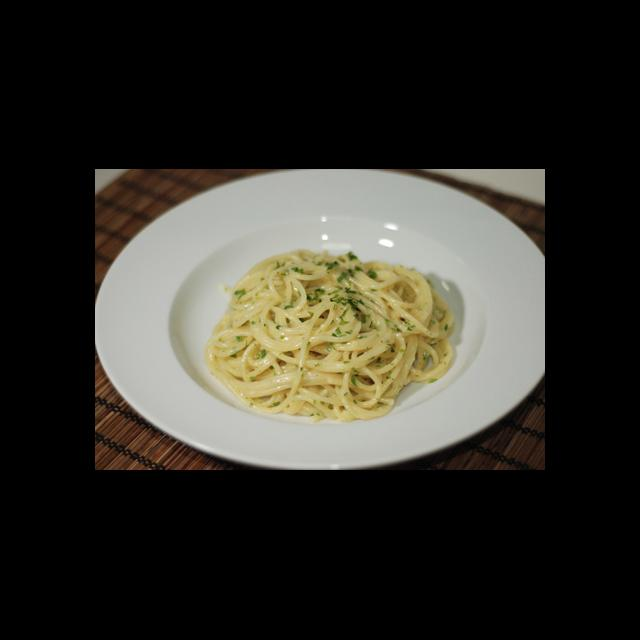noodles: (205, 248, 455, 422)
